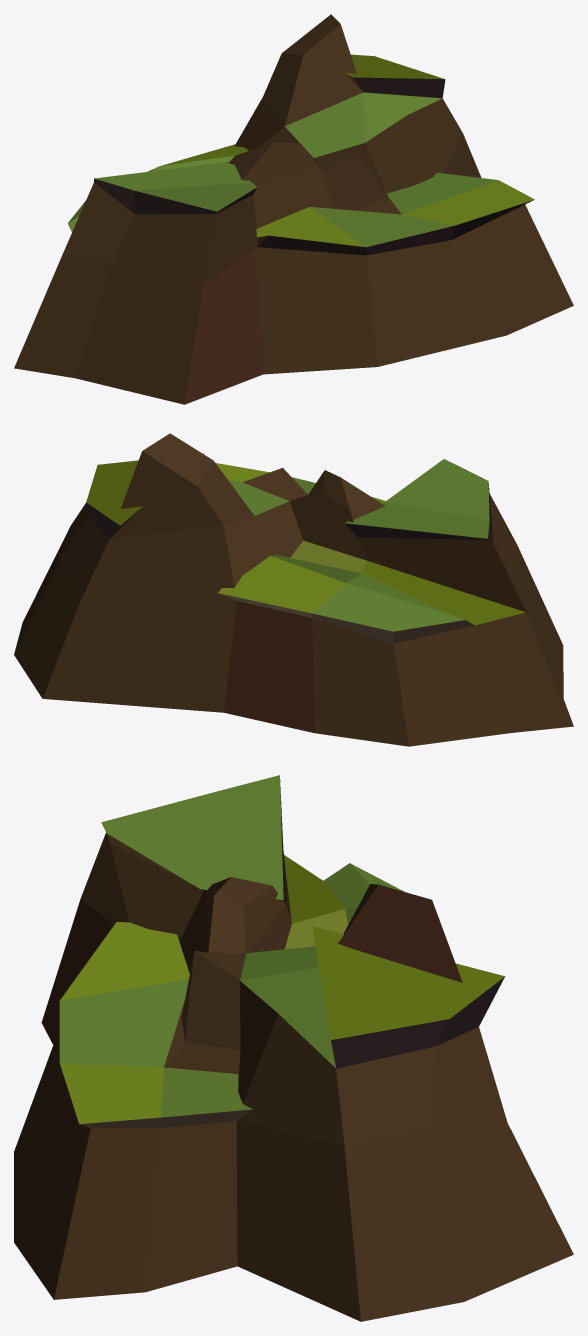
Rendered from Hillpiece1.fbx.
3 renders of one model, top to bottom at view 1: azimuth 30°, elevation 25°; view 2: azimuth 150°, elevation 25°; view 3: azimuth 270°, elevation 25°, orthographic. The views are drawn at different scales.
Visible parts, largest first — view 1: Hill1; view 2: Hill1; view 3: Hill1.
Part boxes in pixels (bbox=[...]): Hill1: bbox=[14, 14, 573, 404]; Hill1: bbox=[14, 433, 573, 746]; Hill1: bbox=[14, 775, 573, 1321].
Size of the model in its own units: 3635 by 1544 by 2370.
